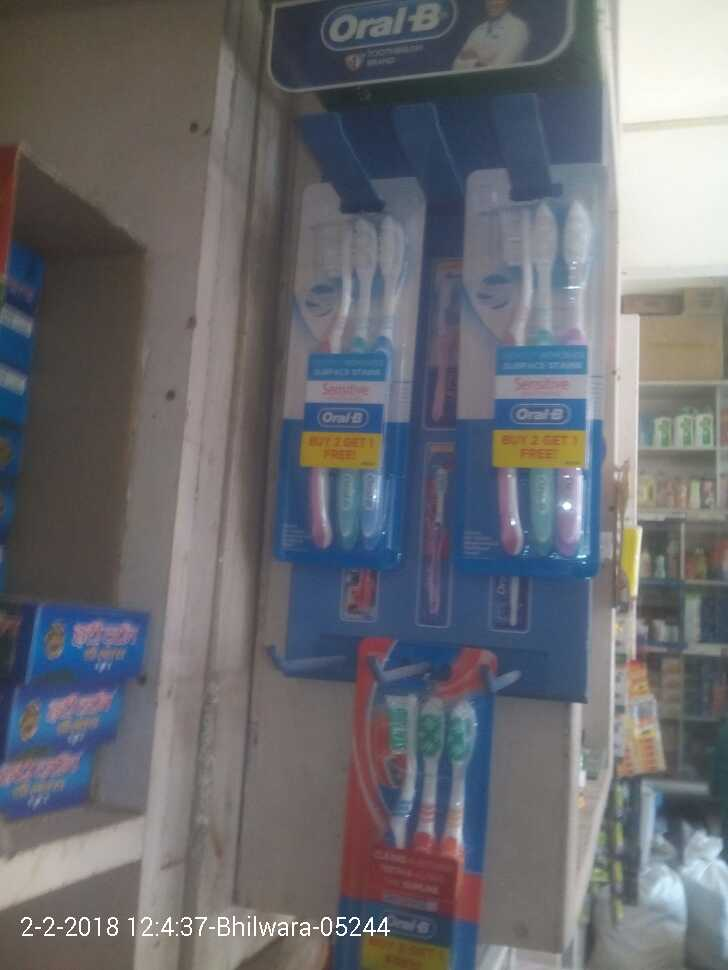oralb: (454, 170, 608, 572), (282, 175, 425, 569), (343, 653, 506, 921)
